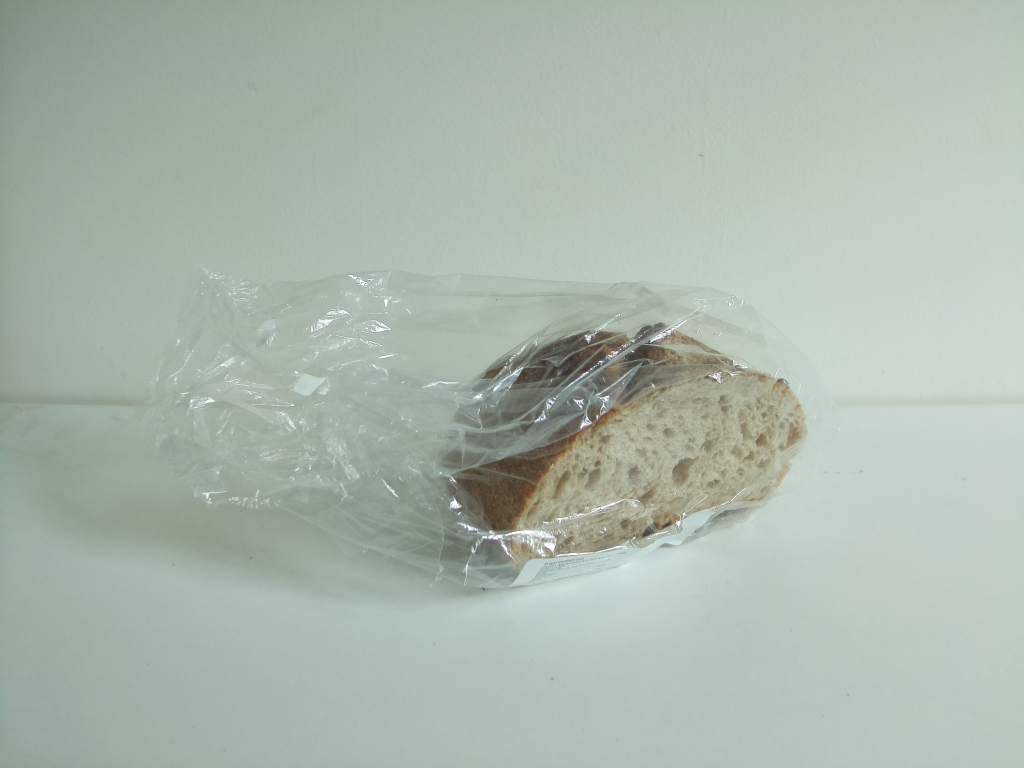bread: (449, 319, 808, 573)
